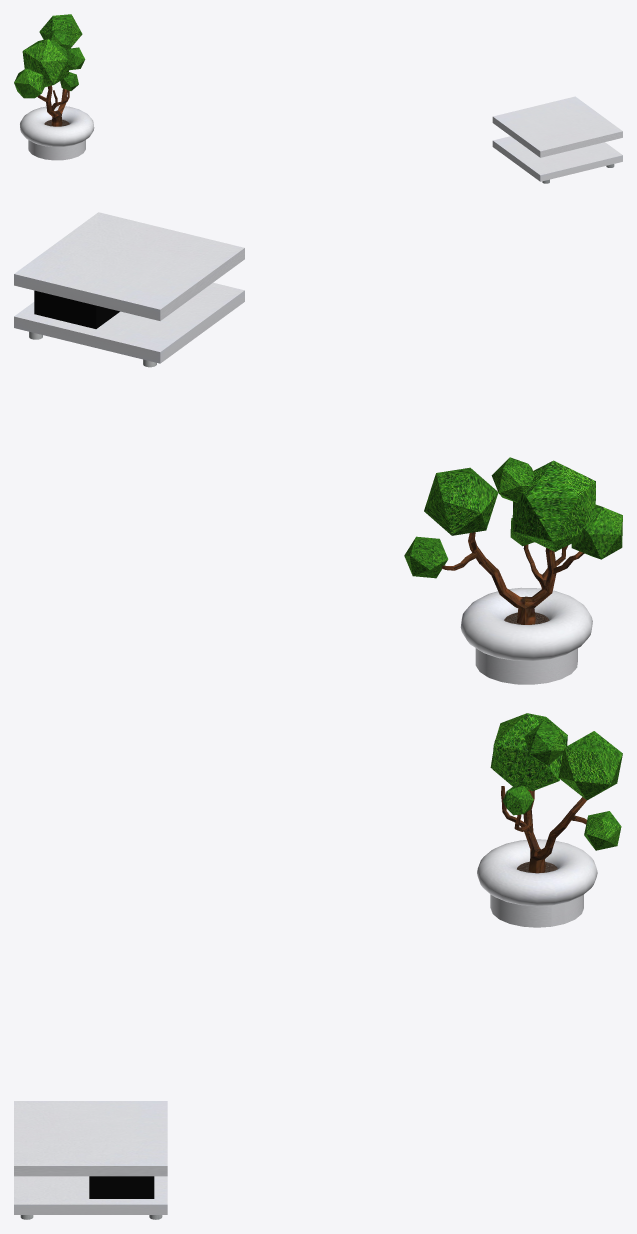
The model's file is mesa2.obj.
3 renders of one model, top to bottom at view 1: azimuth 30°, elevation 25°; view 2: azimuth 150°, elevation 25°; view 3: azimuth 270°, elevation 25°, orthographic. The views are drawn at different scales.
Parts seen in each view (by area): view 1: pasted__tree_polySurface2pCylinder3group51, pasted__pCube1group3, table_pCube1; view 2: pasted__tree_polySurface2pCylinder3group51, pasted__pCube1group3, table_pCube1, table_pCube2; view 3: pasted__tree_polySurface2pCylinder3group51, pasted__pCube1group3, table_pCube1, table_pCube2.
Part boxes in pixels (x1,y1,x2,y2): pasted__tree_polySurface2pCylinder3group51: [14, 14, 94, 160]; pasted__pCube1group3: [492, 96, 622, 157]; table_pCube1: [492, 136, 622, 181]; pasted__tree_polySurface2pCylinder3group51: [404, 457, 622, 684]; pasted__pCube1group3: [14, 212, 244, 320]; table_pCube1: [14, 282, 244, 363]; table_pCube2: [34, 290, 119, 328]; pasted__tree_polySurface2pCylinder3group51: [477, 713, 622, 927]; pasted__pCube1group3: [14, 1101, 167, 1176]; table_pCube1: [14, 1176, 167, 1214]; table_pCube2: [89, 1176, 154, 1198].
Size of the model in its own units: 12.12 by 2.98 by 8.77.
Materials: 8 (8 with a texture image).
